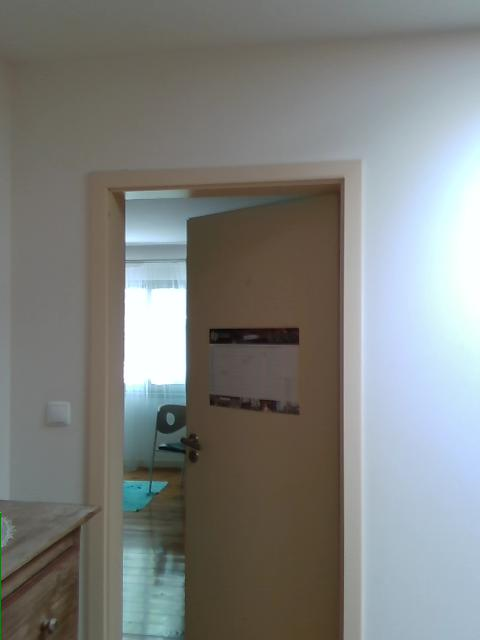semi_door: (83, 157, 366, 639)
